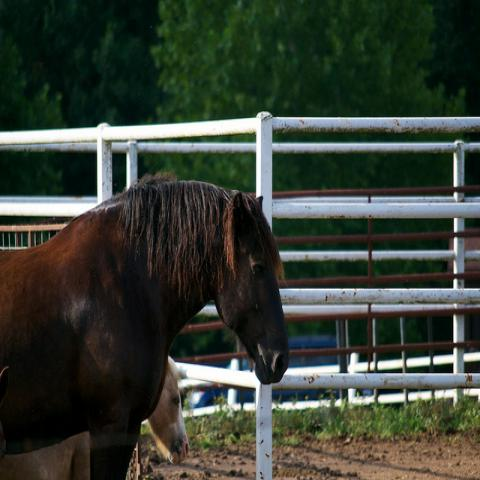car: (189, 332, 341, 411)
